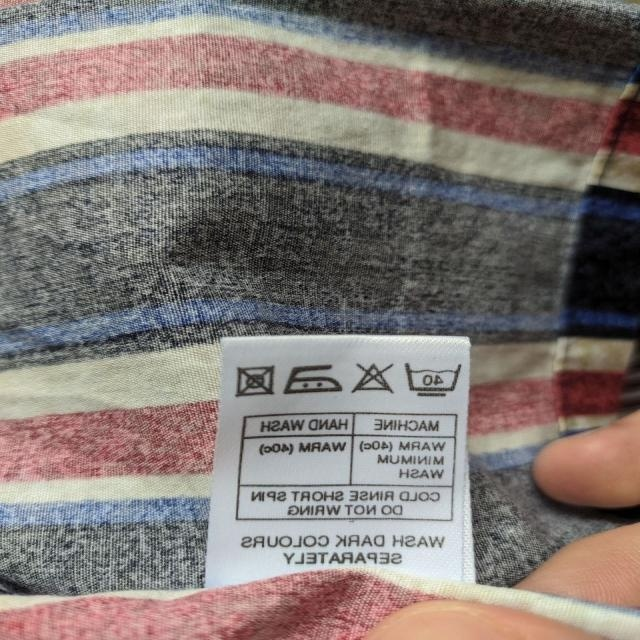40C: (401, 360, 466, 400)
DN_bleach: (353, 360, 394, 394)
DN_tumble_dry: (230, 362, 277, 399)
iron_medium: (284, 363, 341, 396)
